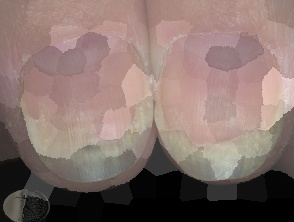Nail_psoriasis: (1, 8, 160, 196), (153, 0, 294, 189)
